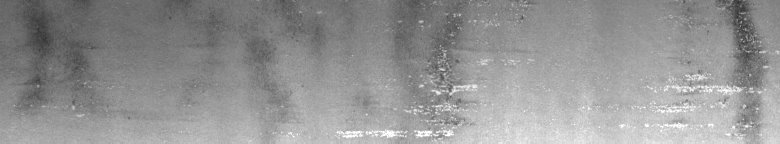hc: (604, 4, 776, 136)
